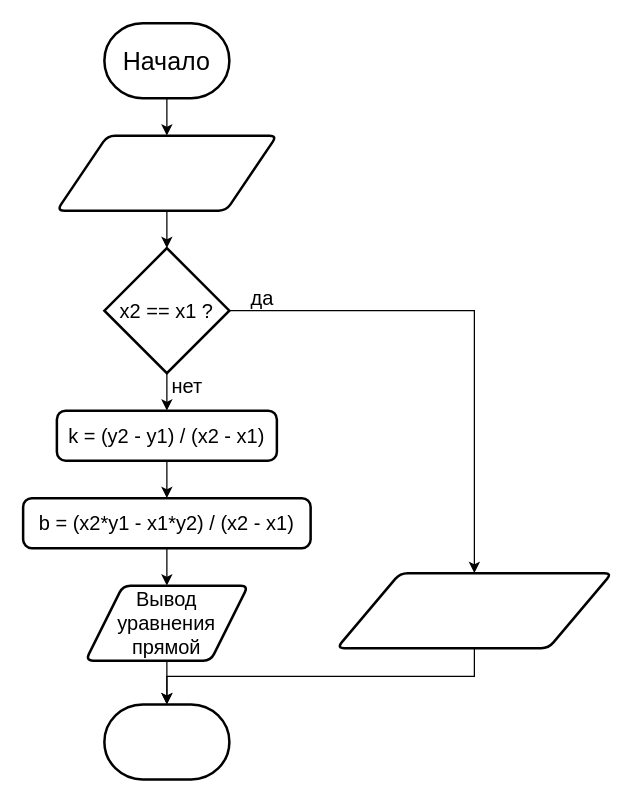
This 634x801 diagram has some shape labels left out. The centre of each missing label's shape, as x and y in pixels:
"Ввод x1, y1, x2, y2" goes at (166,172).
"Вывод сообщения, что прямая параллельна оси Oy и проходит через x1" goes at (473,610).
"Конец" goes at (166,741).
